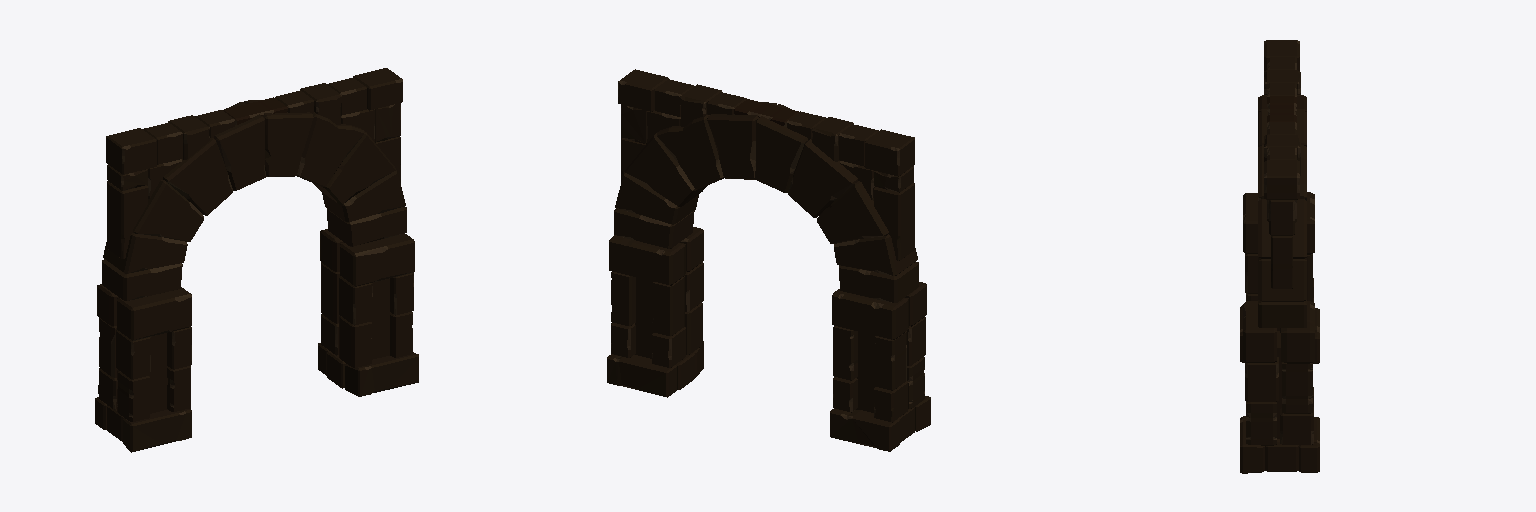
File: Arch.obj
3 renders of one model, left to right at view 1: azimuth 30°, elevation 25°; view 2: azimuth 150°, elevation 25°; view 3: azimuth 270°, elevation 25°, orthographic.
Visible parts, largest first — view 1: Mesh; view 2: Mesh; view 3: Mesh.
Boxes of the visible parts, <box> form: Mesh: <box>95,68,418,452</box>; Mesh: <box>607,69,930,451</box>; Mesh: <box>1240,40,1319,473</box>.
Size of the model in its own units: 4.1 by 4.01 by 0.9926.